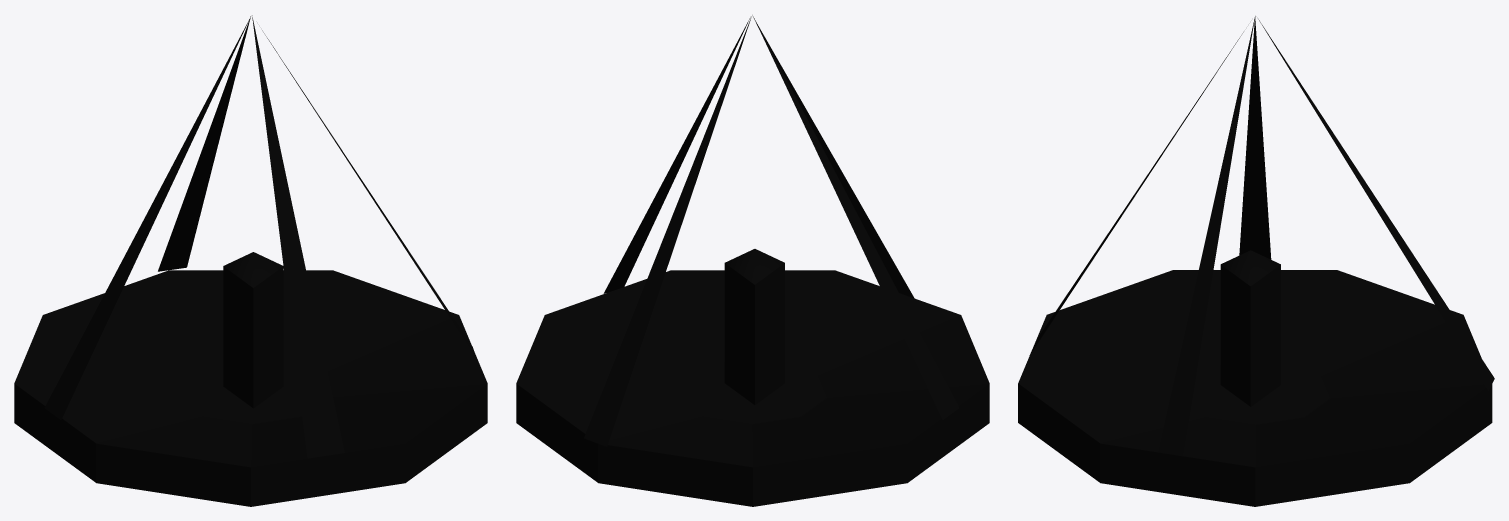
File: fucking ceiling torch.fbx
3 views of the same model, side by side, from view 1: azimuth 30°, elevation 25°; view 2: azimuth 150°, elevation 25°; view 3: azimuth 270°, elevation 25° (orthographic).
Parts seen in each view (by area): view 1: pTorus6; view 2: pTorus6; view 3: pTorus6.
Boxes of the visible parts, bbox=[...] form: pTorus6: bbox=[14, 15, 487, 506]; pTorus6: bbox=[516, 15, 989, 506]; pTorus6: bbox=[1018, 16, 1494, 506].
Size of the model in its own units: 1.15 by 1.13 by 1.16.
